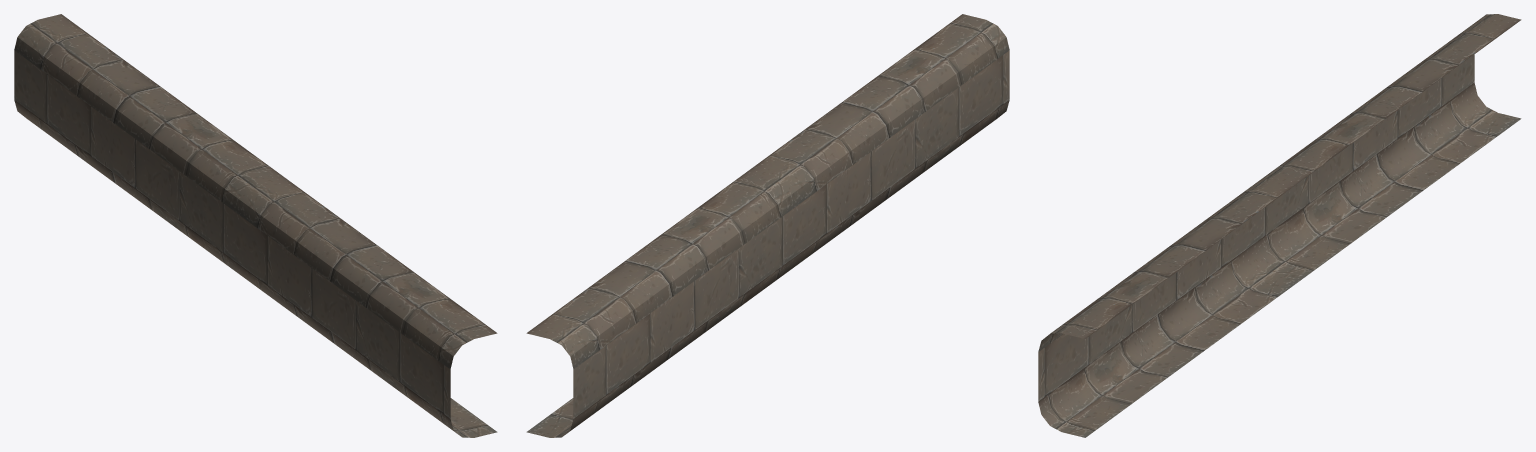
File: Ruins_Ledge_Intact_01a.fbx
3 views of the same model, side by side, from view 1: azimuth 30°, elevation 25°; view 2: azimuth 150°, elevation 25°; view 3: azimuth 330°, elevation 25° (orthographic).
Parts seen in each view (by area): view 1: Ruins_Ledge_Intact_01a; view 2: Ruins_Ledge_Intact_01a; view 3: Ruins_Ledge_Intact_01a.
Boxes of the visible parts, box(x1,y1,x2,y2) form: Ruins_Ledge_Intact_01a: box(14, 14, 497, 437); Ruins_Ledge_Intact_01a: box(526, 14, 1009, 437); Ruins_Ledge_Intact_01a: box(1038, 14, 1521, 437).
Size of the model in its own units: 0.5 by 1 by 8.
1 material, 1 textured.
